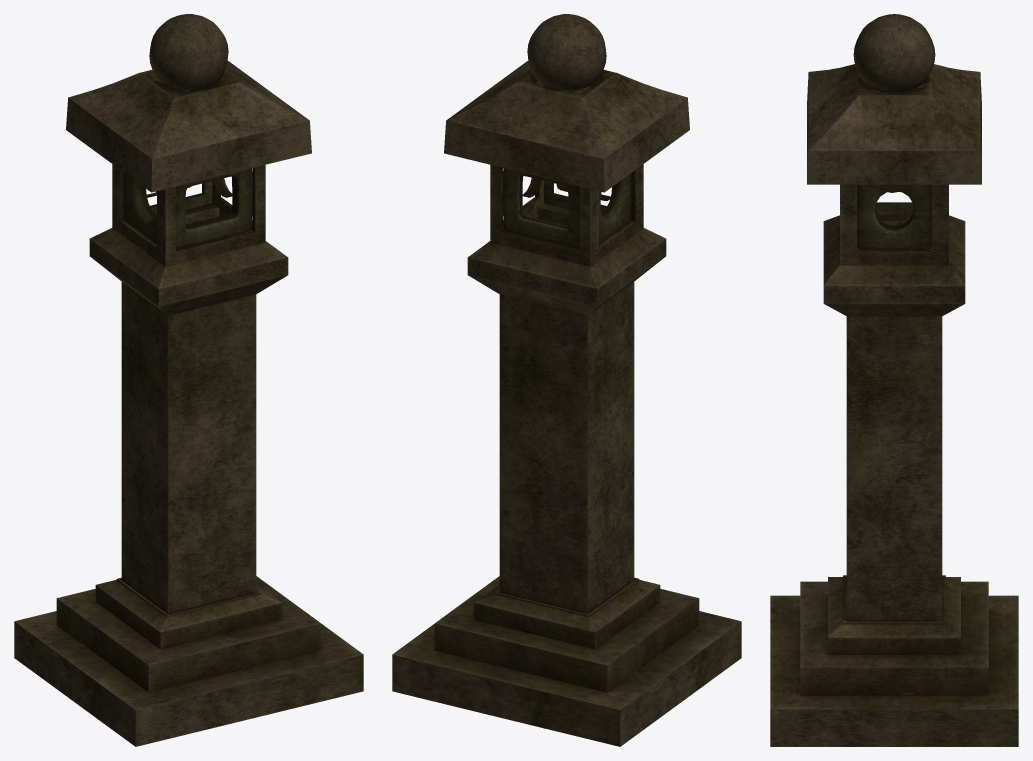
File: Toro_003.fbx
3 views of the same model, side by side, from view 1: azimuth 30°, elevation 25°; view 2: azimuth 150°, elevation 25°; view 3: azimuth 270°, elevation 25° (orthographic). The views are drawn at different scales.
Visible parts, largest first — view 1: SO_003_Base, SO_003_Top, SO_003_Mid; view 2: SO_003_Base, SO_003_Top, SO_003_Mid; view 3: SO_003_Base, SO_003_Top, SO_003_Mid.
Boxes of the visible parts, box(x1,y1,x2,y2) form: SO_003_Base: box(14, 61, 363, 746); SO_003_Top: box(149, 14, 228, 90); SO_003_Mid: box(124, 168, 252, 248); SO_003_Base: box(392, 61, 741, 746); SO_003_Top: box(527, 14, 606, 90); SO_003_Mid: box(503, 168, 631, 248); SO_003_Base: box(770, 64, 1018, 746); SO_003_Top: box(853, 14, 935, 91); SO_003_Mid: box(857, 184, 931, 249).
Bounding box in the file's own units: 86.25 × 237 × 79.58.
